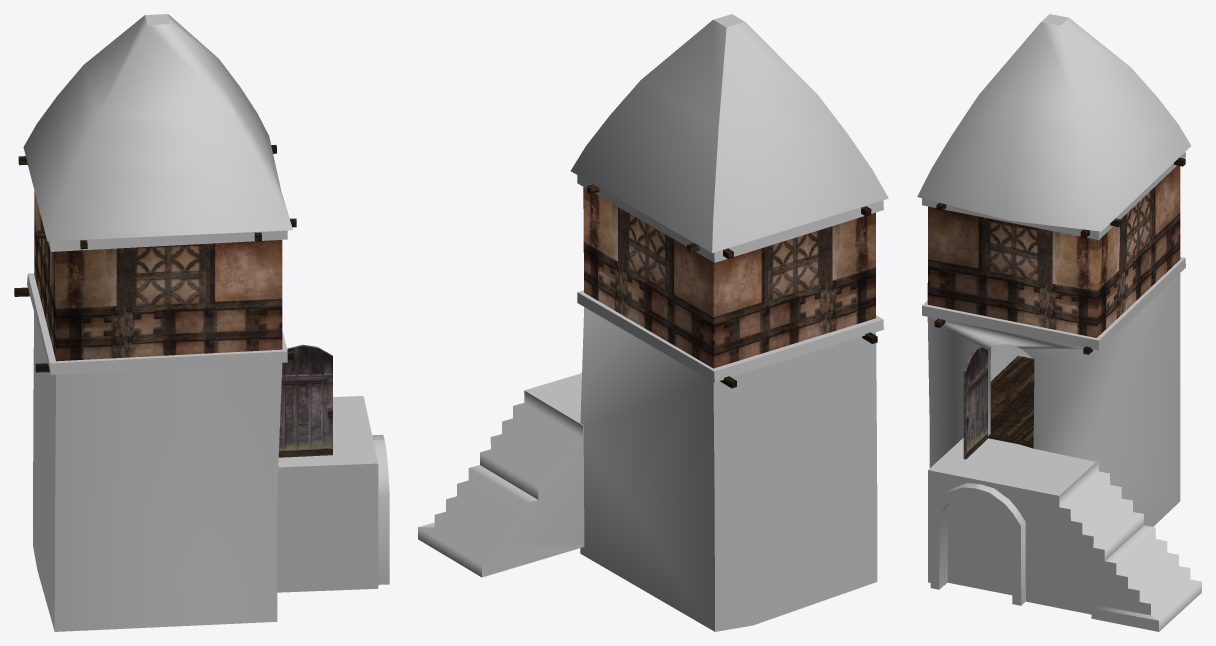
The model's file is VillageBuildingE.dae.
The picture shows the model from 3 angles, left to right: view 1: azimuth 30°, elevation 25°; view 2: azimuth 150°, elevation 25°; view 3: azimuth 270°, elevation 25°; orthographic projection. The views are drawn at different scales.
Visible parts, largest first — view 1: meshU3D; view 2: meshU3D; view 3: meshU3D.
Part boxes in pixels (x1,y1,x2,y2): meshU3D: [14, 14, 389, 631]; meshU3D: [418, 14, 888, 631]; meshU3D: [917, 14, 1201, 631].
Bounding box in the file's own units: 314 × 428 × 217.
